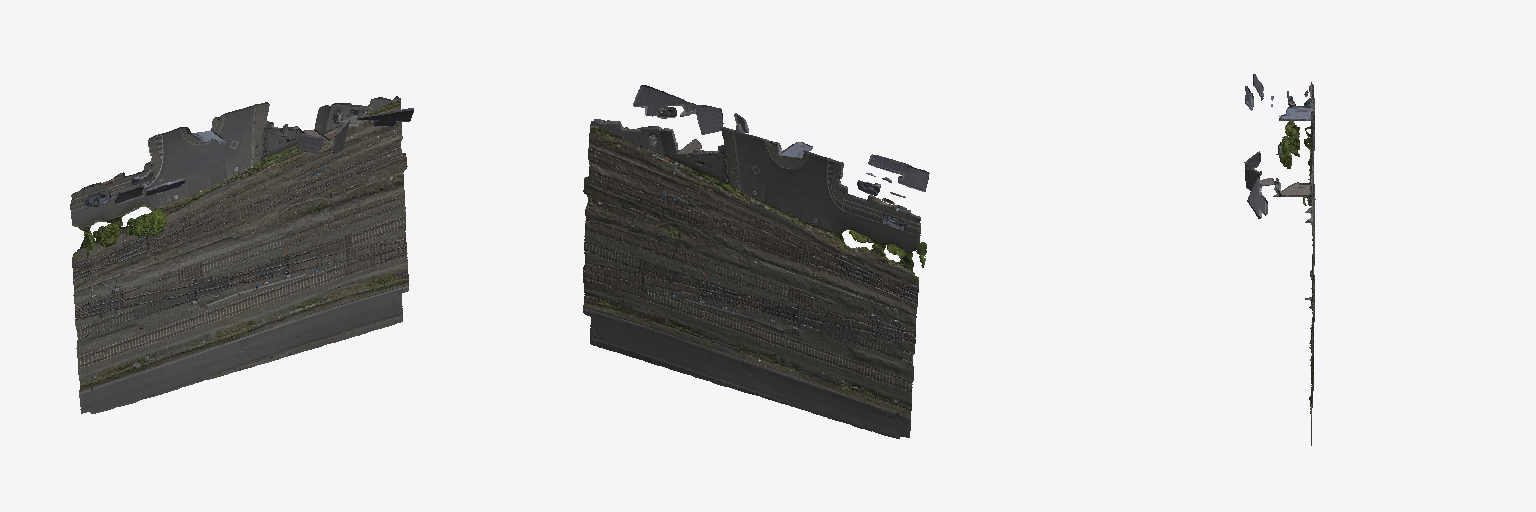
3 views of the same model, side by side, from view 1: azimuth 30°, elevation 25°; view 2: azimuth 150°, elevation 25°; view 3: azimuth 270°, elevation 25° (orthographic).
Size of the model in its own units: 63.94 by 48.69 by 11.63.
Materials: 1 (1 with a texture image).